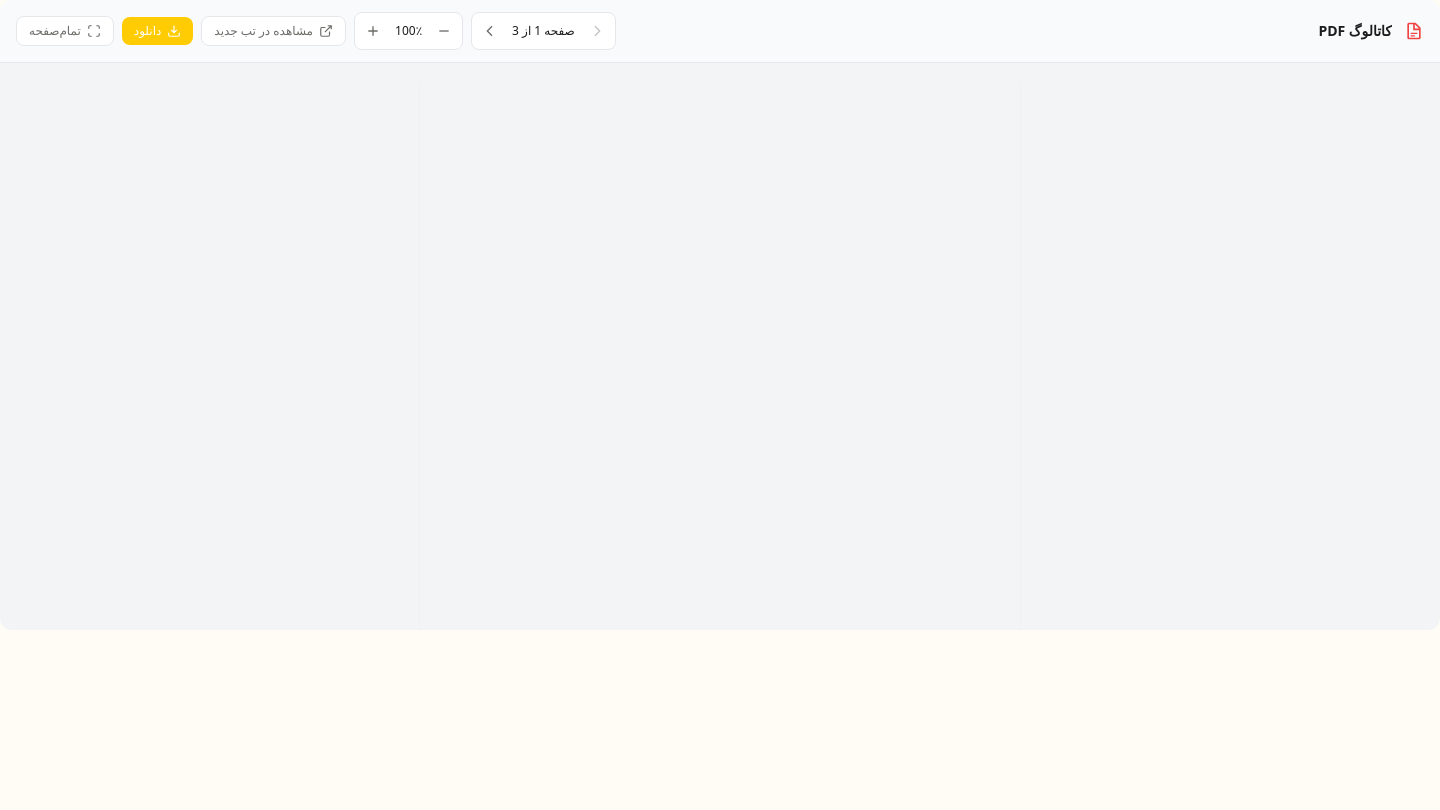
Scenario: PdfViewer — zoom › steps zoom and re-renders at the new scale
Expected: the text "100٪" is shown, x1=395 y1=22 x2=422 y2=39
Step 1. Click the button named "بزرگ‌نمایی" → (373,31), box x1=359 y1=17 x2=387 y2=45
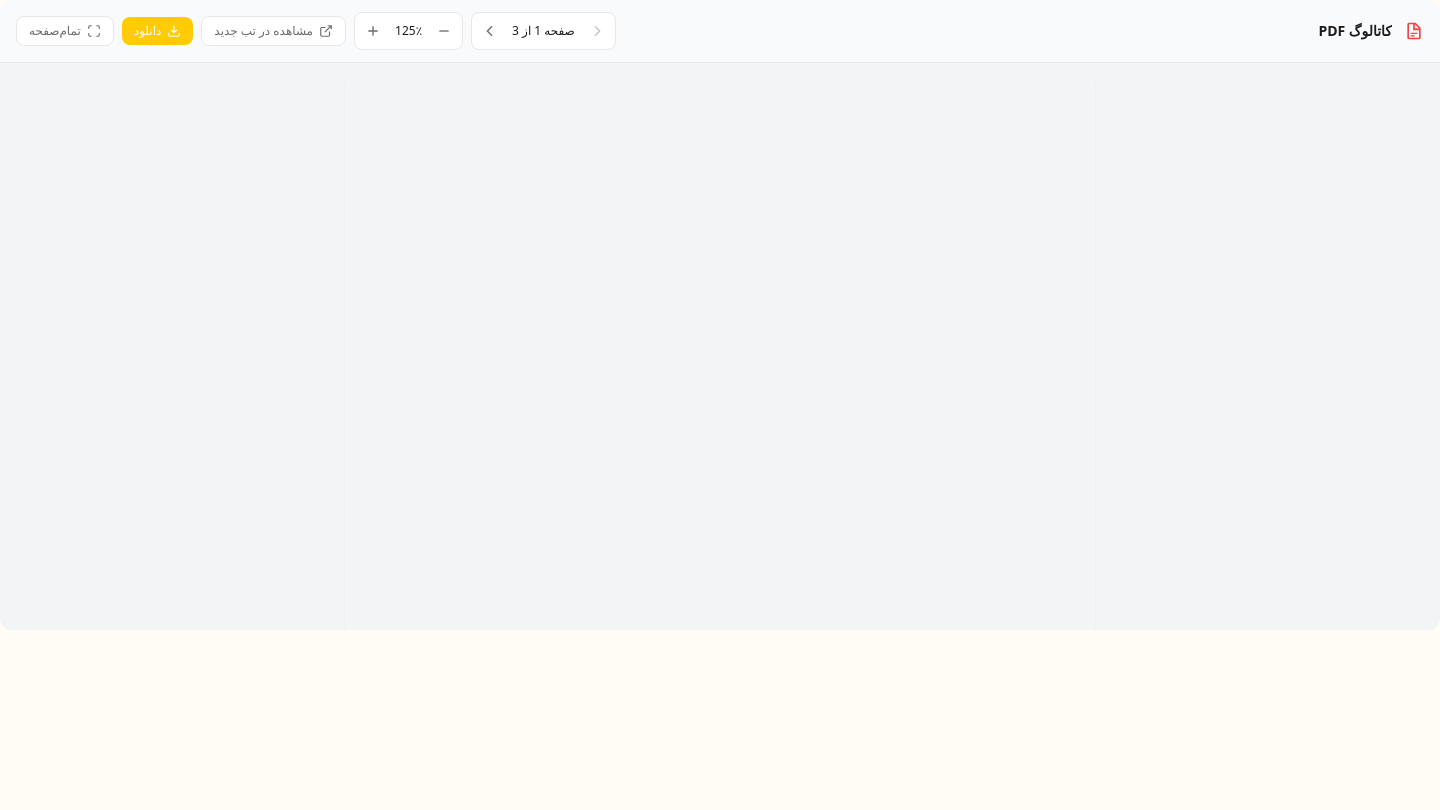
Result: the text "125٪" is shown at x1=395 y1=22 x2=422 y2=39
Step 2. Click the button named "کوچک‌نمایی" → (444,31), box x1=430 y1=17 x2=458 y2=45
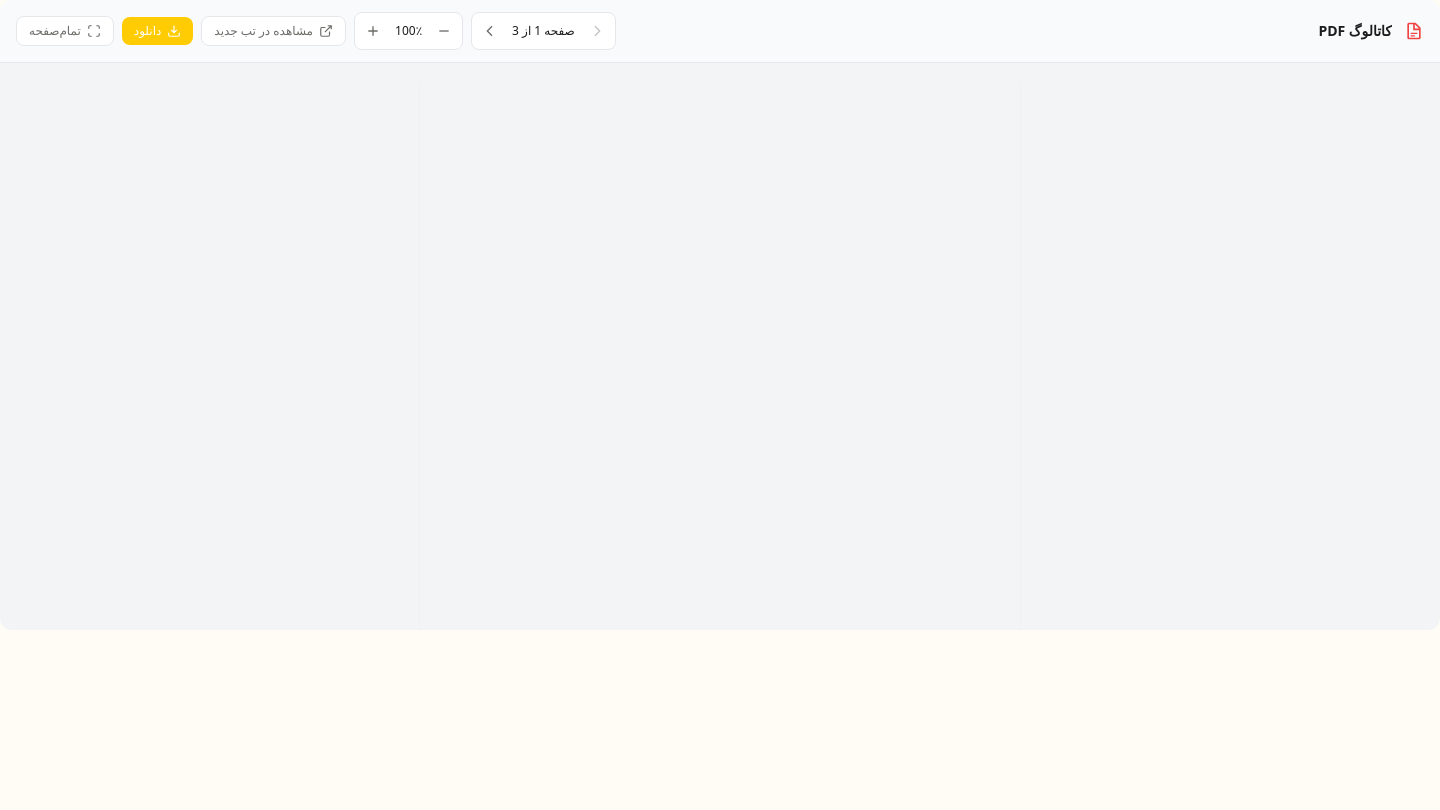
Result: the text "100٪" is shown at x1=395 y1=22 x2=422 y2=39
